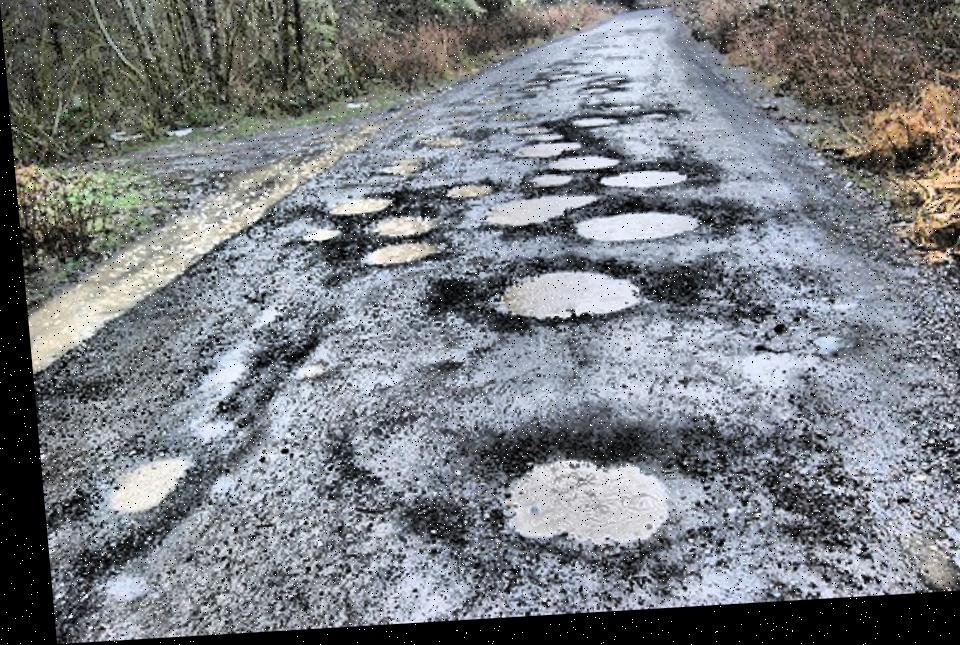pothole: (487, 442, 675, 572), (490, 270, 639, 339), (92, 450, 189, 518), (176, 356, 245, 446), (571, 215, 702, 256), (479, 200, 598, 233), (362, 213, 438, 248), (359, 241, 442, 273), (596, 174, 690, 201), (320, 192, 388, 224), (545, 158, 618, 183), (509, 146, 579, 168), (375, 158, 426, 186), (520, 174, 573, 198), (441, 184, 492, 207), (413, 136, 467, 157), (566, 118, 618, 139), (299, 228, 338, 249), (502, 127, 550, 144), (286, 362, 325, 382)
